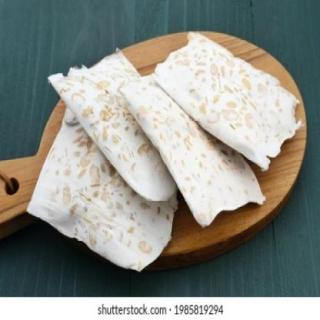Tempe: (26, 33, 304, 274)
